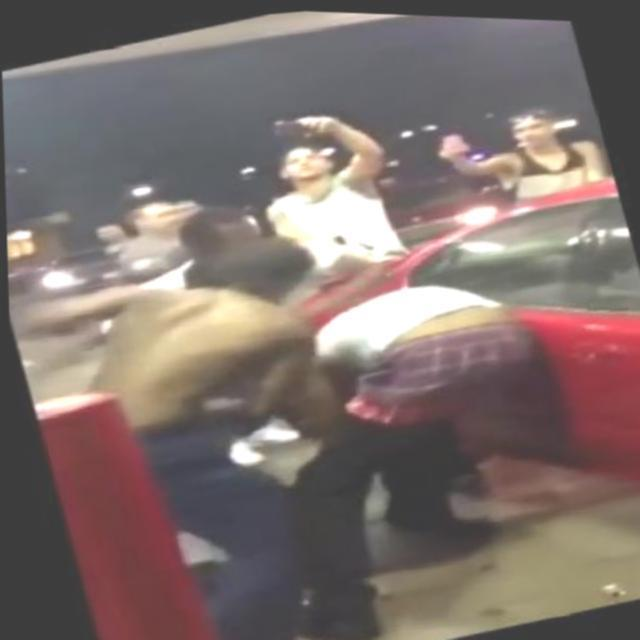fight: (228, 175, 584, 640)
